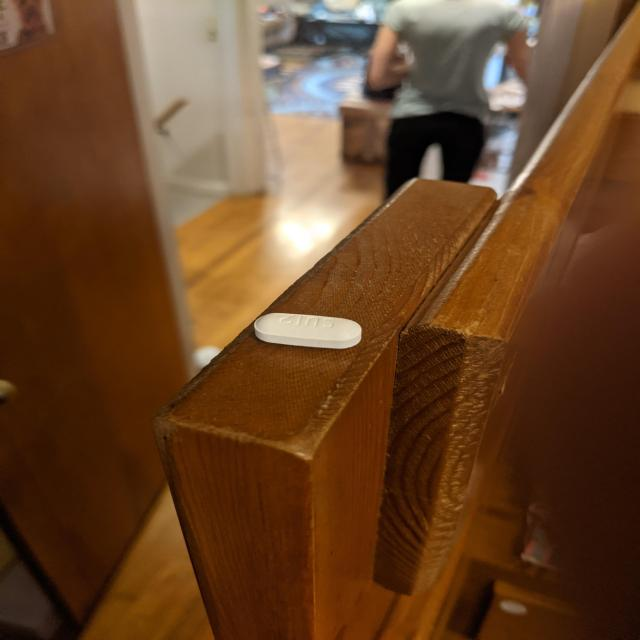non-organic waste: (253, 311, 362, 350)
